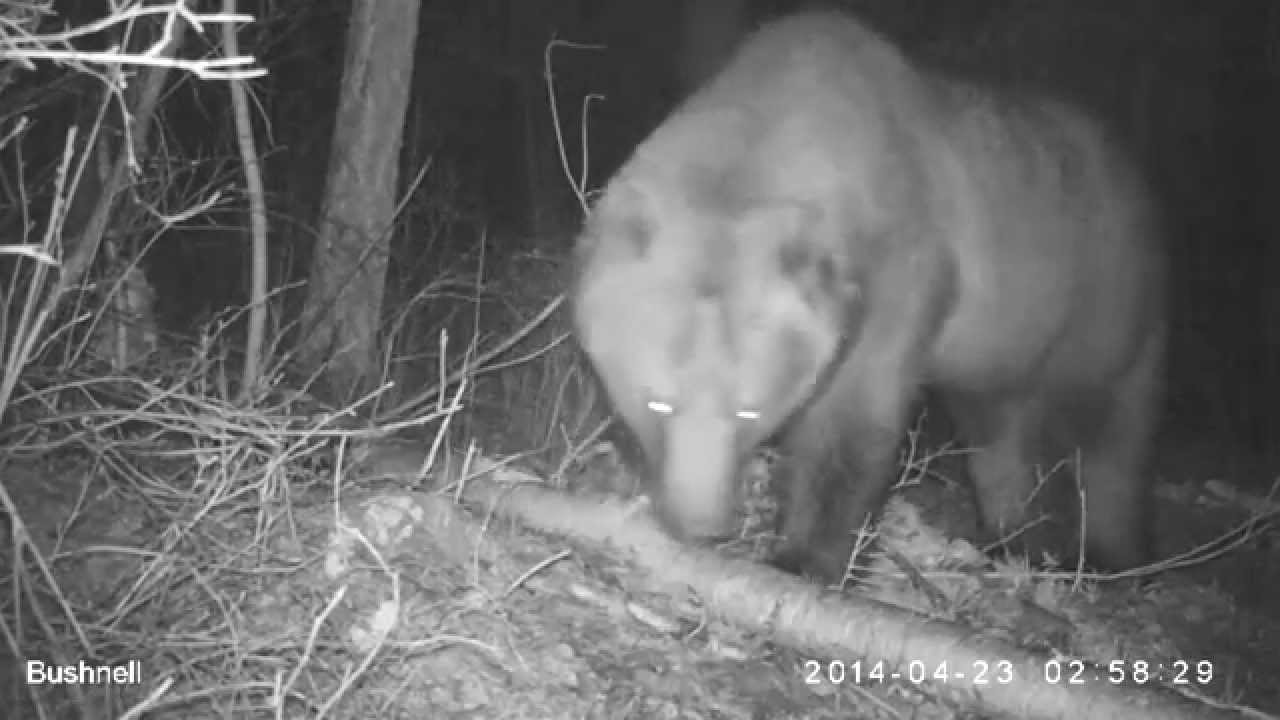bear: (530, 25, 1188, 597)
